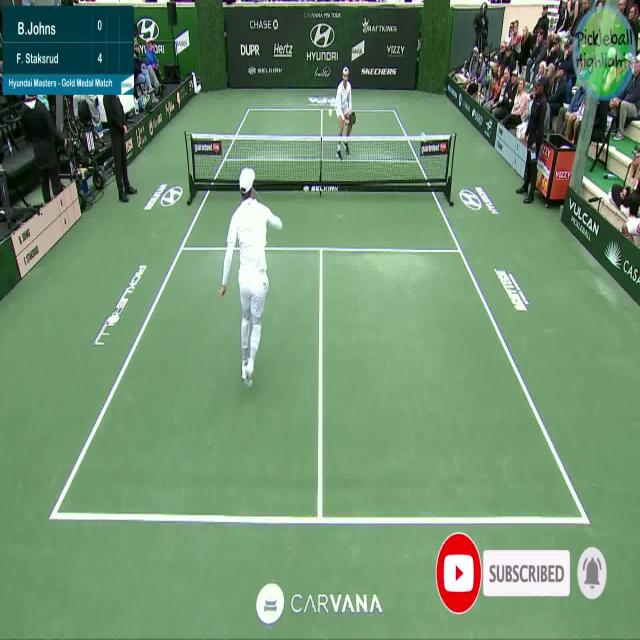ball: (327, 106, 333, 119)
